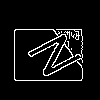N: (25, 25, 95, 81)
